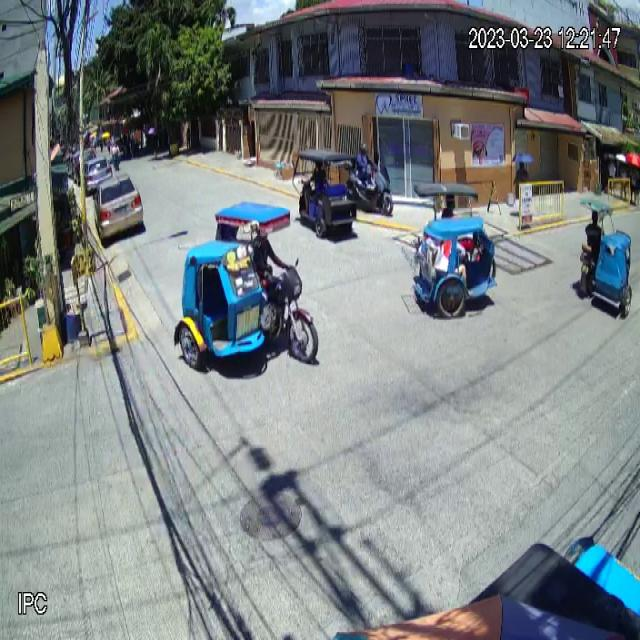Tricycle: (173, 200, 320, 368), (412, 180, 498, 320), (578, 197, 632, 317)
